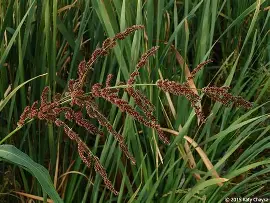weed: (29, 36, 242, 176)
